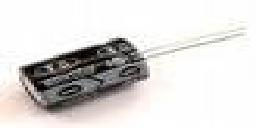Electrolytic-Capacitor: (15, 25, 247, 115)
